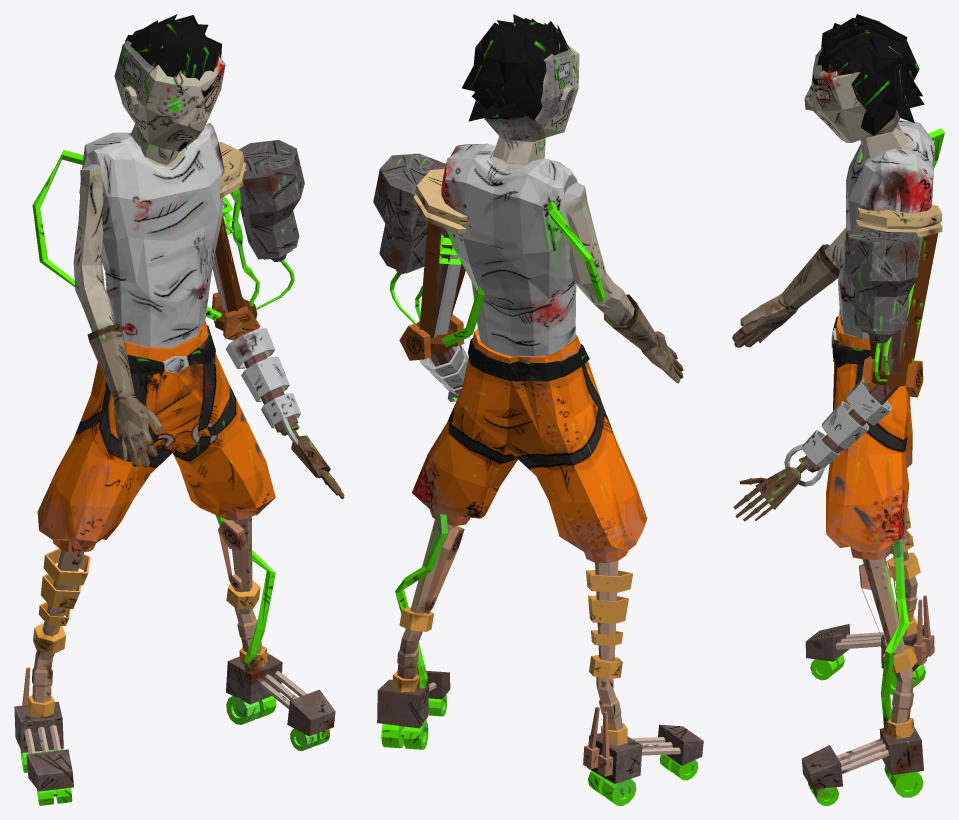
The model's file is CyborgFINALAnimation_000032.obj.
3 views of the same model, side by side, from view 1: azimuth 30°, elevation 25°; view 2: azimuth 150°, elevation 25°; view 3: azimuth 270°, elevation 25° (orthographic). The views are drawn at different scales.
Visible parts, largest first — view 1: CyborgMesh_Cube.002; view 2: CyborgMesh_Cube.002; view 3: CyborgMesh_Cube.002.
Part boxes in pixels (<box>): CyborgMesh_Cube.002: <box>14,14,344,805</box>; CyborgMesh_Cube.002: <box>373,14,703,805</box>; CyborgMesh_Cube.002: <box>732,14,944,805</box>.
Bounding box in the file's own units: 3.99 × 9.64 × 2.57.
